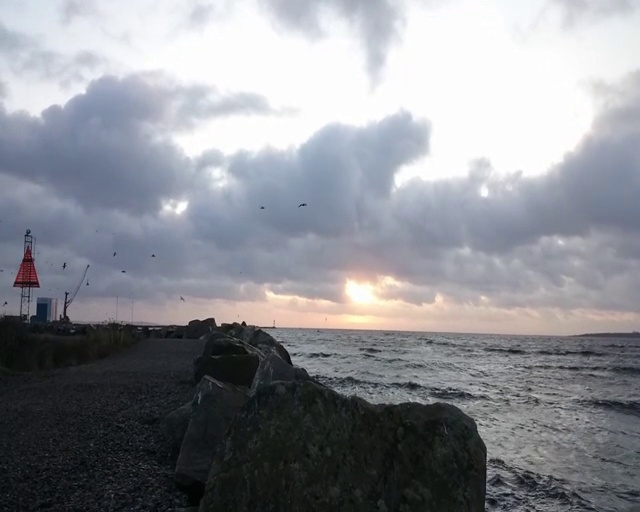BIRD: (58, 262, 91, 321)
